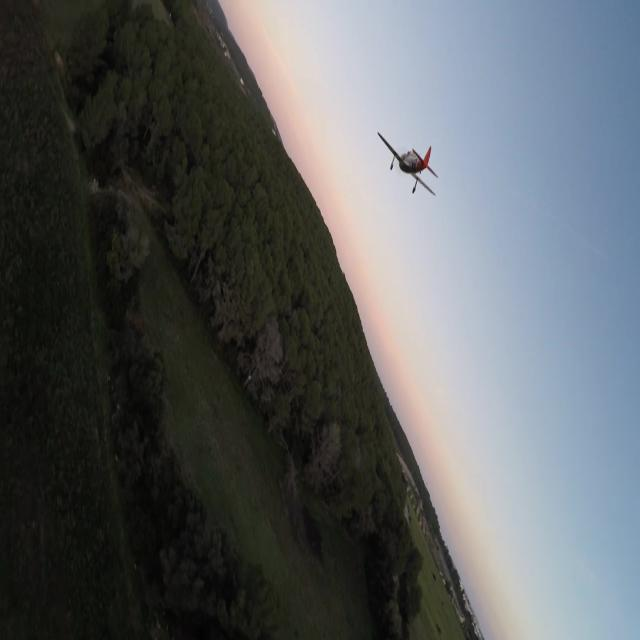iha: (377, 161, 439, 167)
